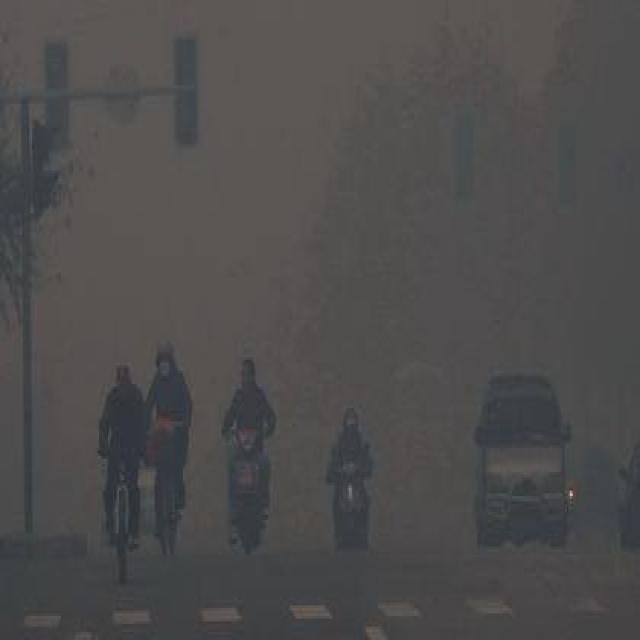Cycle: (82, 352, 140, 605), (323, 346, 381, 581), (222, 330, 280, 562), (143, 314, 195, 562)
Van: (466, 344, 583, 563)
